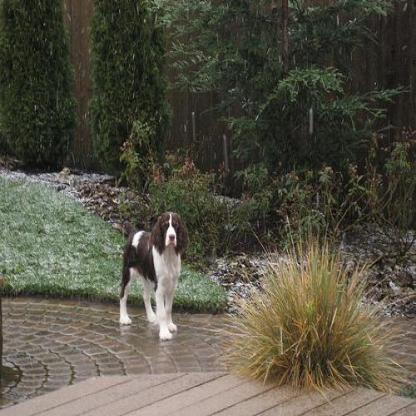English_springer: (118, 210, 185, 340)
